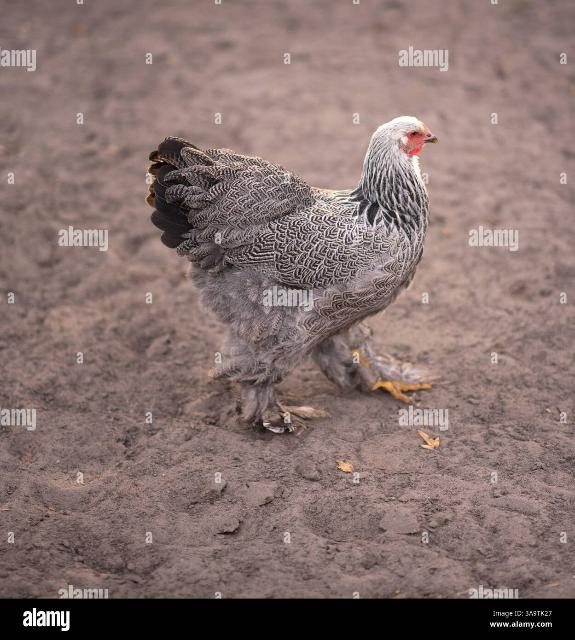Chicken: (150, 108, 439, 435)
